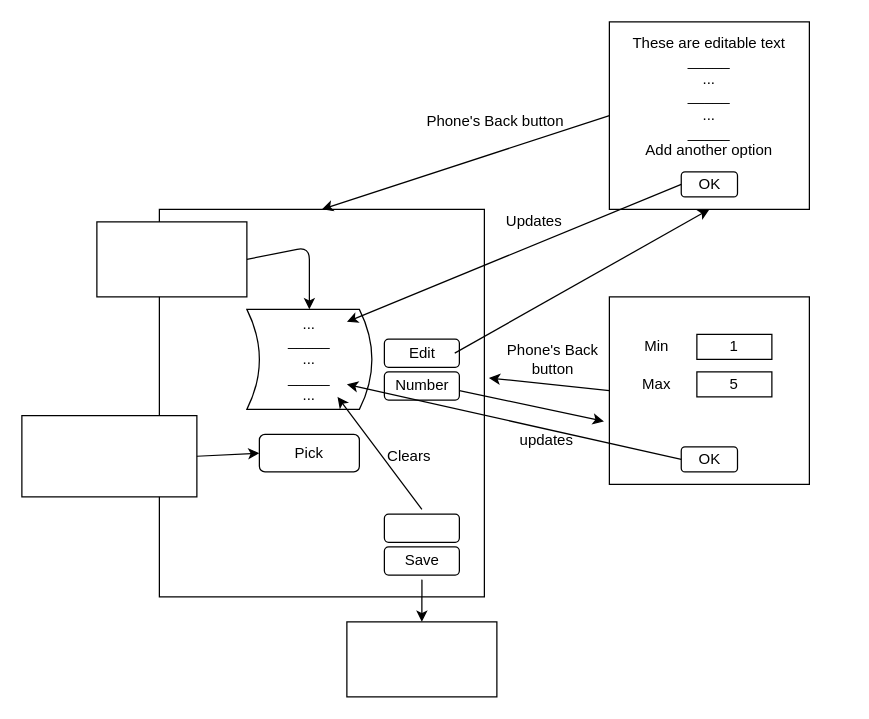
Some shapes in this 869 by 719 pixel diagram are drawn without their labels. The centre of each missing label's shape, as x and y in pixels:
"Clear" belongs at (421,527).
"On press, plays sound, spins Picker Wheel and randomly pick an option" belongs at (109,455).
"Picker Wheel" belongs at (171,259).
"Save to phone" belongs at (421,659).
